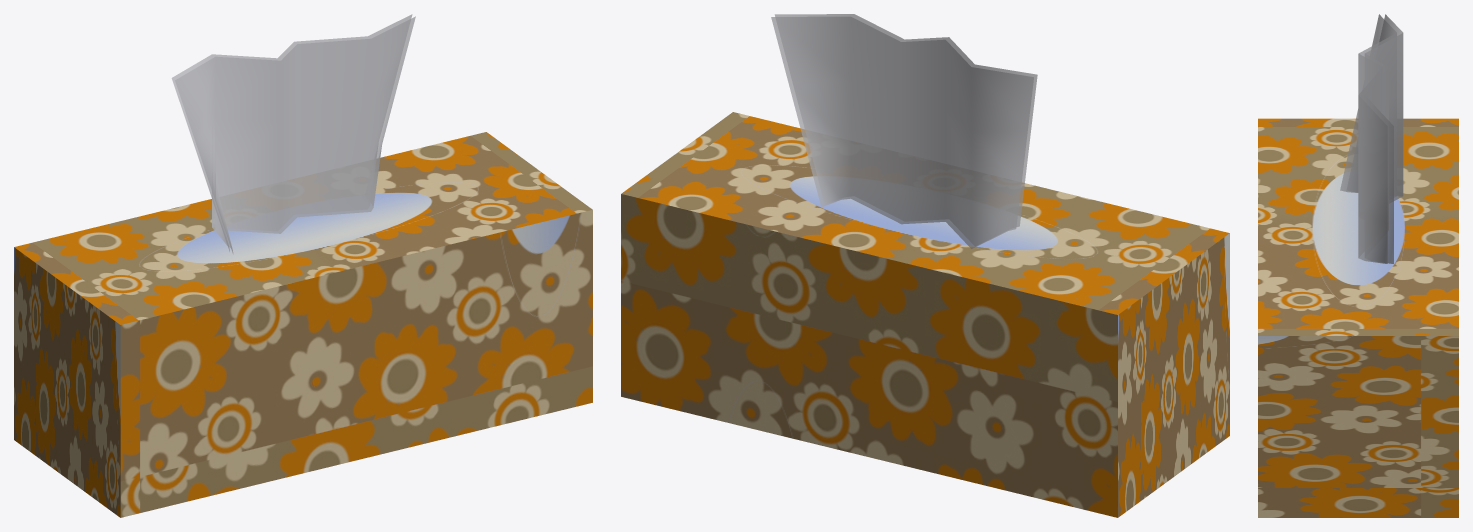
The model's file is tissue_box.fbx.
The picture shows the model from 3 angles, left to right: view 1: azimuth 30°, elevation 25°; view 2: azimuth 150°, elevation 25°; view 3: azimuth 270°, elevation 25°; orthographic projection. The views are drawn at different scales.
Parts seen in each view (by area): view 1: kleenex_box, tissue, tissue2; view 2: kleenex_box, tissue2, tissue; view 3: kleenex_box, tissue2, tissue.
Part boxes in pixels (left/top/right/bottom): kleenex_box: left=14, top=132, right=592, bottom=517; tissue: left=175, top=16, right=415, bottom=254; tissue2: left=171, top=14, right=412, bottom=251; kleenex_box: left=621, top=112, right=1229, bottom=517; tissue2: left=771, top=16, right=1033, bottom=248; tissue: left=774, top=14, right=1037, bottom=245; kleenex_box: left=1258, top=118, right=1458, bottom=517; tissue2: left=1347, top=14, right=1403, bottom=263; tissue: left=1340, top=14, right=1396, bottom=263.
Size of the model in its own units: 2.56 by 1.9 by 1.
Materials: 2 (1 with a texture image).
